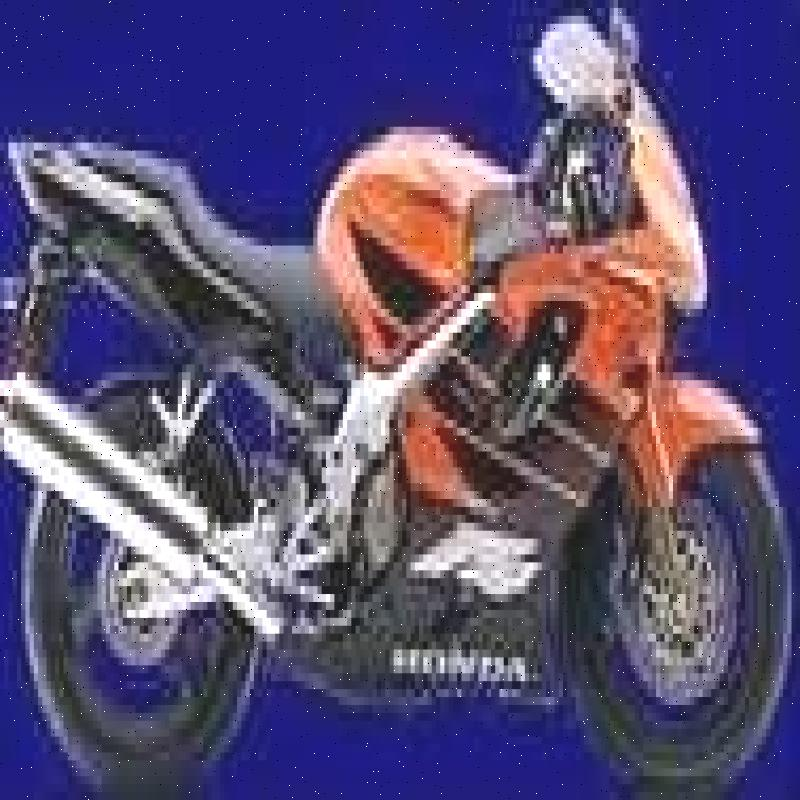bike: (1, 10, 800, 798)
